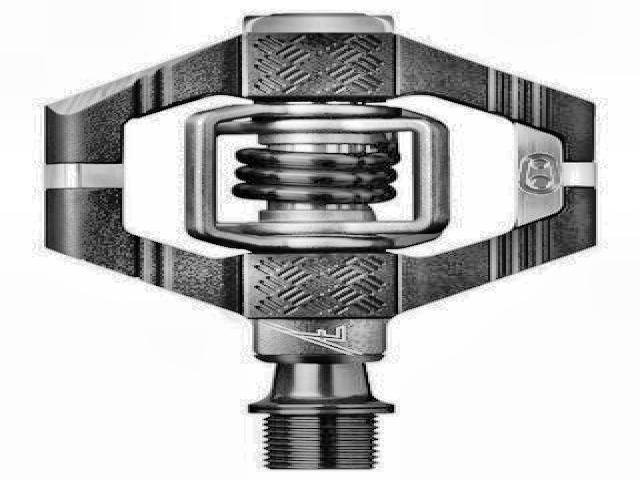pedal: (42, 6, 607, 466)
